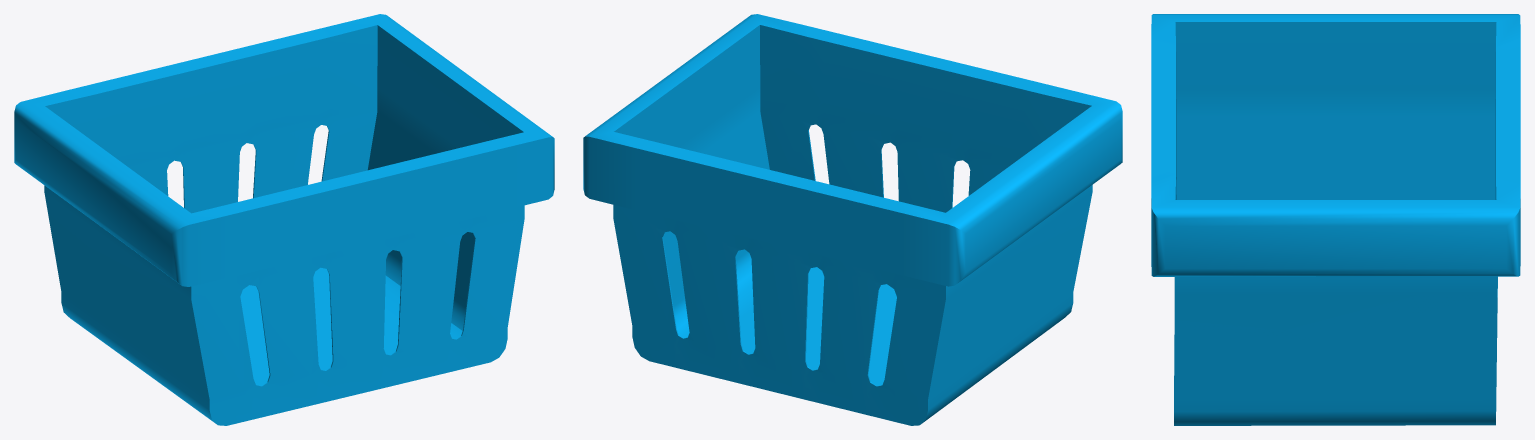
Rendered from basket.fbx.
3 views of the same model, side by side, from view 1: azimuth 30°, elevation 25°; view 2: azimuth 150°, elevation 25°; view 3: azimuth 270°, elevation 25° (orthographic). The views are drawn at different scales.
Parts seen in each view (by area): view 1: Cube; view 2: Cube; view 3: Cube.
Boxes of the visible parts, x1,y1,x2,y2 form: Cube: (14,14,554,425); Cube: (583,14,1122,425); Cube: (1151,14,1520,425).
Bounding box in the file's own units: 44.97 × 24.94 × 34.4.
